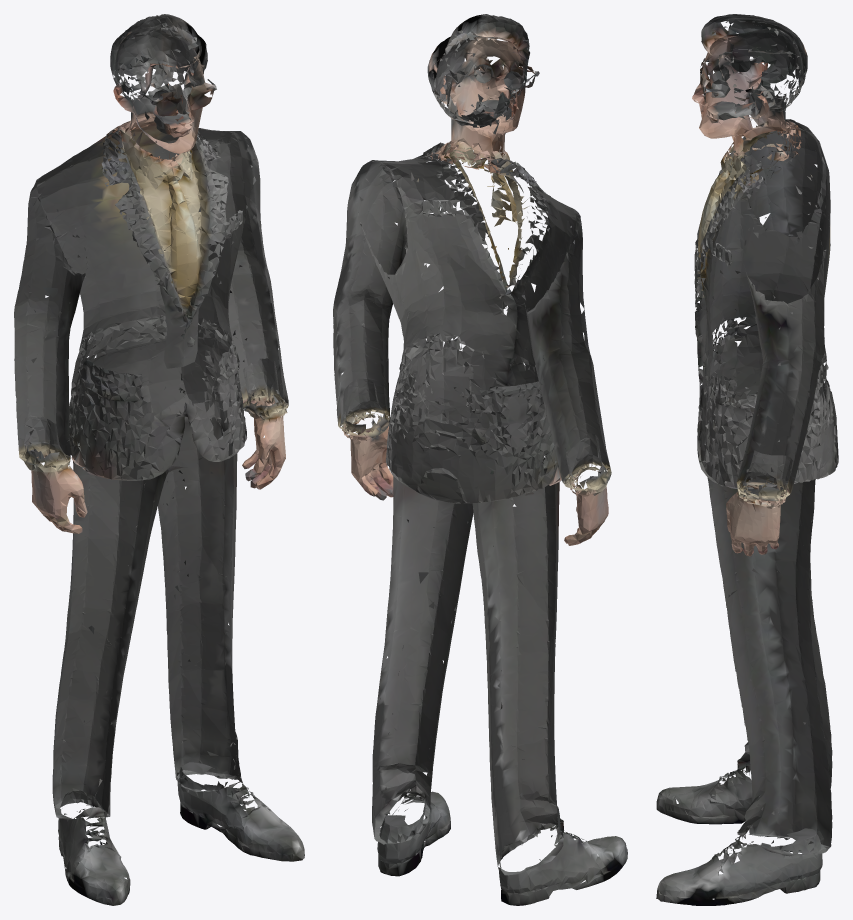
File: iluminado.glb
3 renders of one model, left to right at view 1: azimuth 30°, elevation 25°; view 2: azimuth 150°, elevation 25°; view 3: azimuth 270°, elevation 25°, orthographic.
Bounding box in the file's own units: 0.5961 × 1.82 × 0.36.
